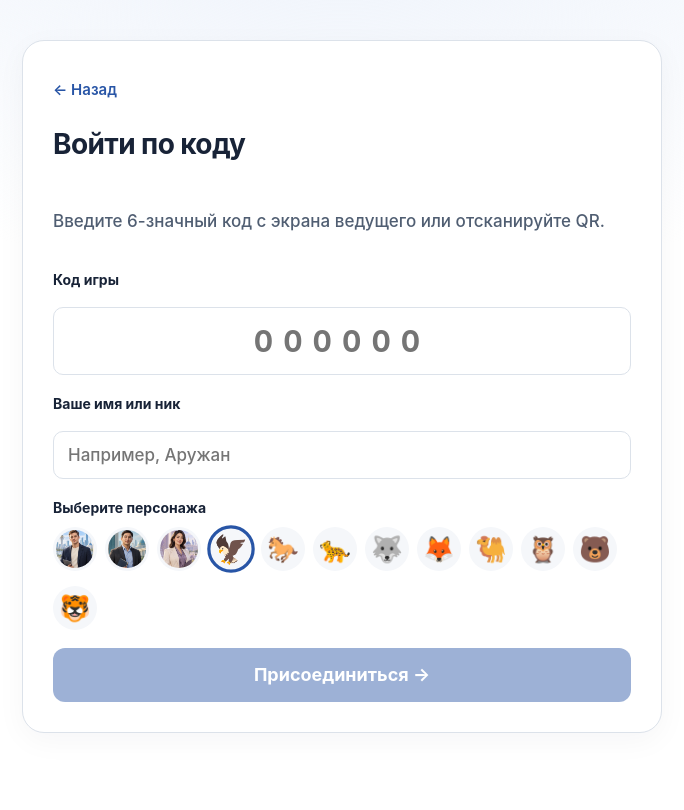
Test: shows a readable error for an unknown code
In the field with placeholder "000000": (342, 341) [53,307,631,375], type "99-99-99"
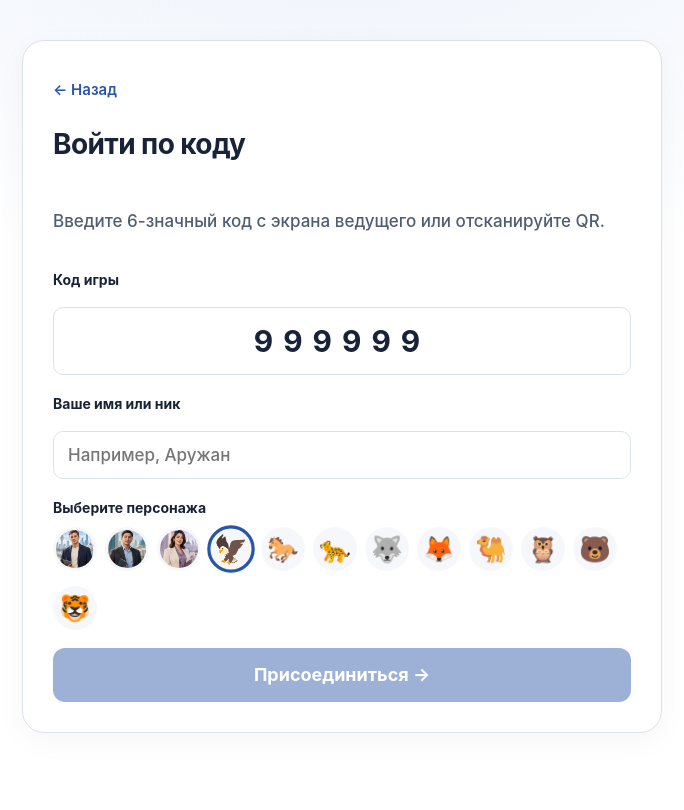
Expected: the field with placeholder "000000" holds "999999", [53,307,631,375]
In the field with placeholder "Например, Аружан": (342, 455) [53,431,631,479], type "Аня"
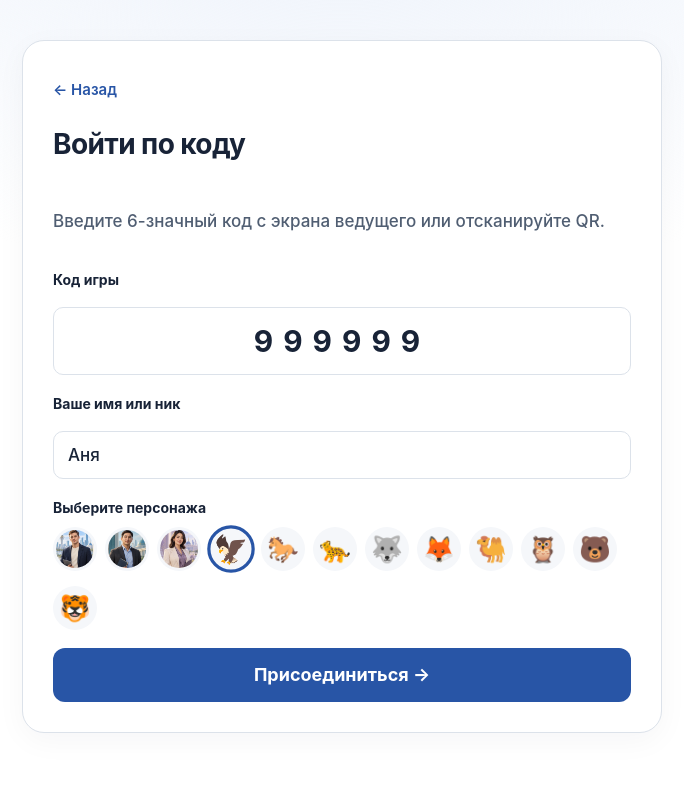
Click the button "Присоединиться →": (342, 675) [53,648,631,702]
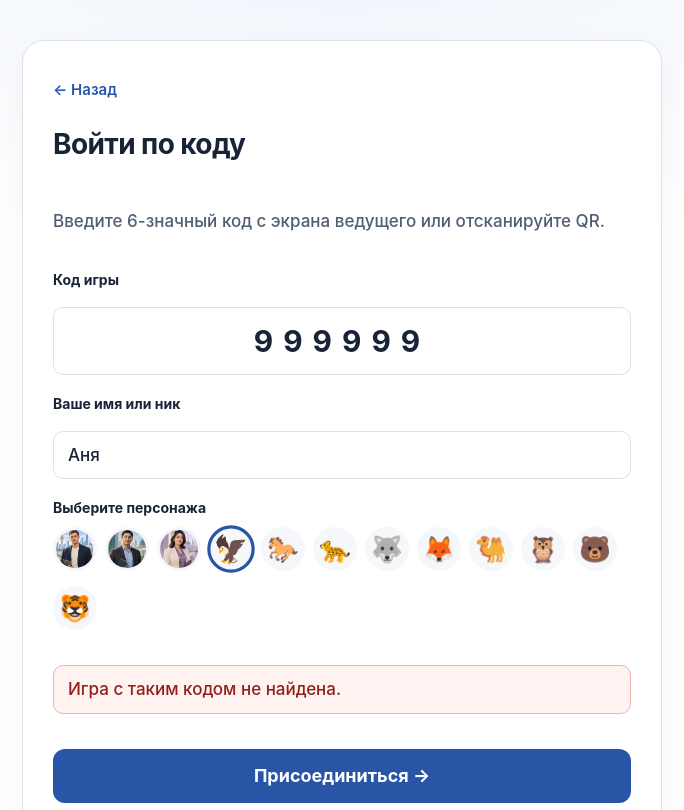
Expected: the message reads "Игра с таким кодом не найдена.", [68,679,341,699]
